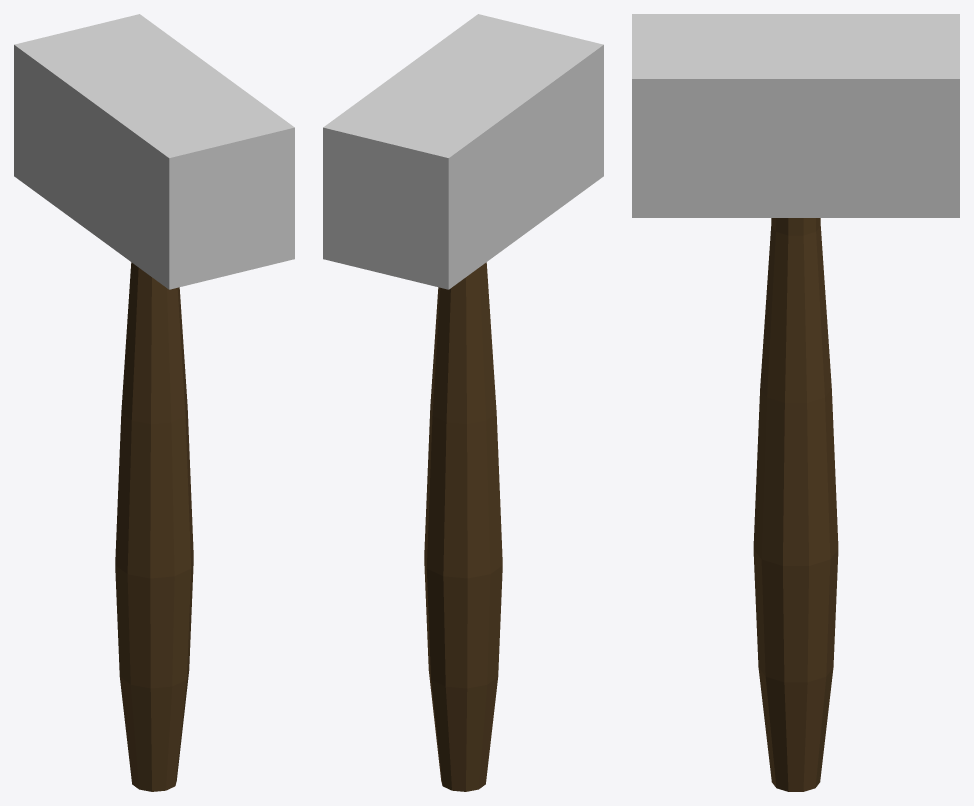
The model's file is hammer-ouch.glb.
3 views of the same model, side by side, from view 1: azimuth 30°, elevation 25°; view 2: azimuth 150°, elevation 25°; view 3: azimuth 270°, elevation 25° (orthographic). The views are drawn at different scales.
Parts seen in each view (by area): view 1: hammer_ouch; view 2: hammer_ouch; view 3: hammer_ouch.
Part boxes in pixels (x1=…): hammer_ouch: x1=14, y1=14, x2=294, y2=791; hammer_ouch: x1=323, y1=14, x2=603, y2=791; hammer_ouch: x1=632, y1=14, x2=959, y2=791.
Size of the model in its own units: 2.11 by 11.18 by 4.51.
